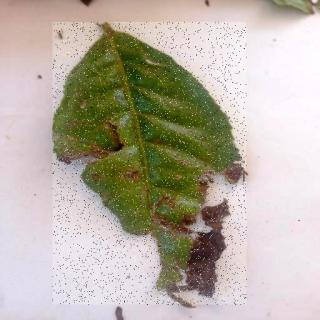Brown Blight: (54, 24, 249, 307)
